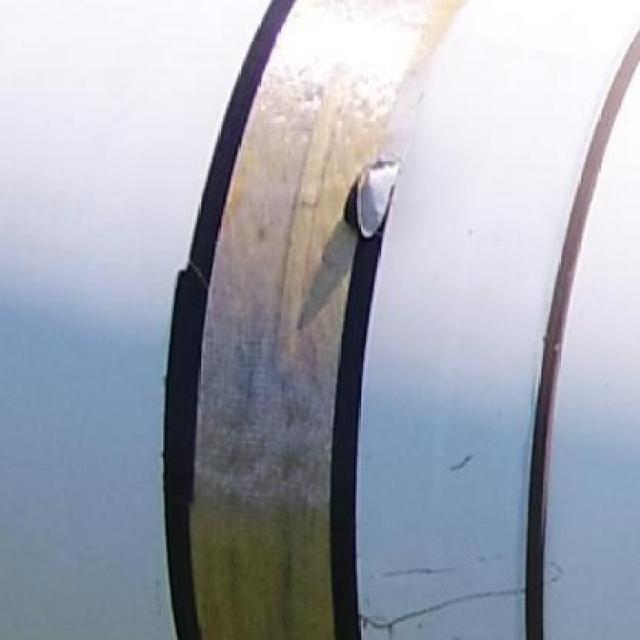Crack: (359, 557, 566, 638), (449, 453, 473, 475)
